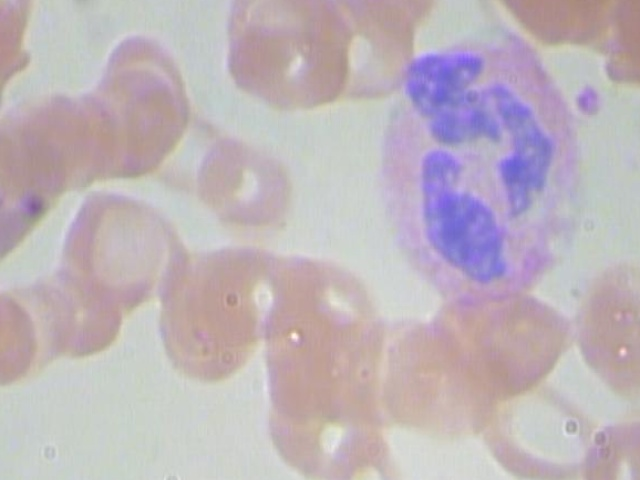Platelets: (567, 73, 609, 131)
RBC: (468, 356, 609, 480), (56, 179, 177, 306), (221, 0, 353, 110), (150, 251, 256, 386), (377, 311, 483, 446), (92, 59, 192, 188), (312, 0, 418, 99), (200, 135, 301, 238), (142, 91, 243, 194), (95, 19, 195, 122), (572, 258, 640, 406), (64, 86, 144, 188), (220, 0, 325, 74), (310, 417, 414, 480), (598, 0, 640, 110), (467, 0, 588, 29), (355, 0, 460, 22)
WBC: (365, 29, 583, 306)
